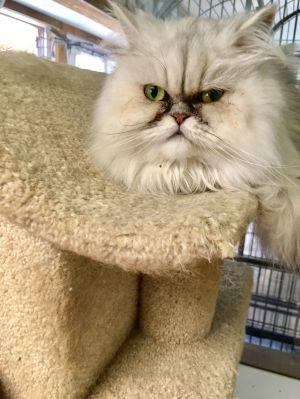persian: (87, 1, 300, 190)
